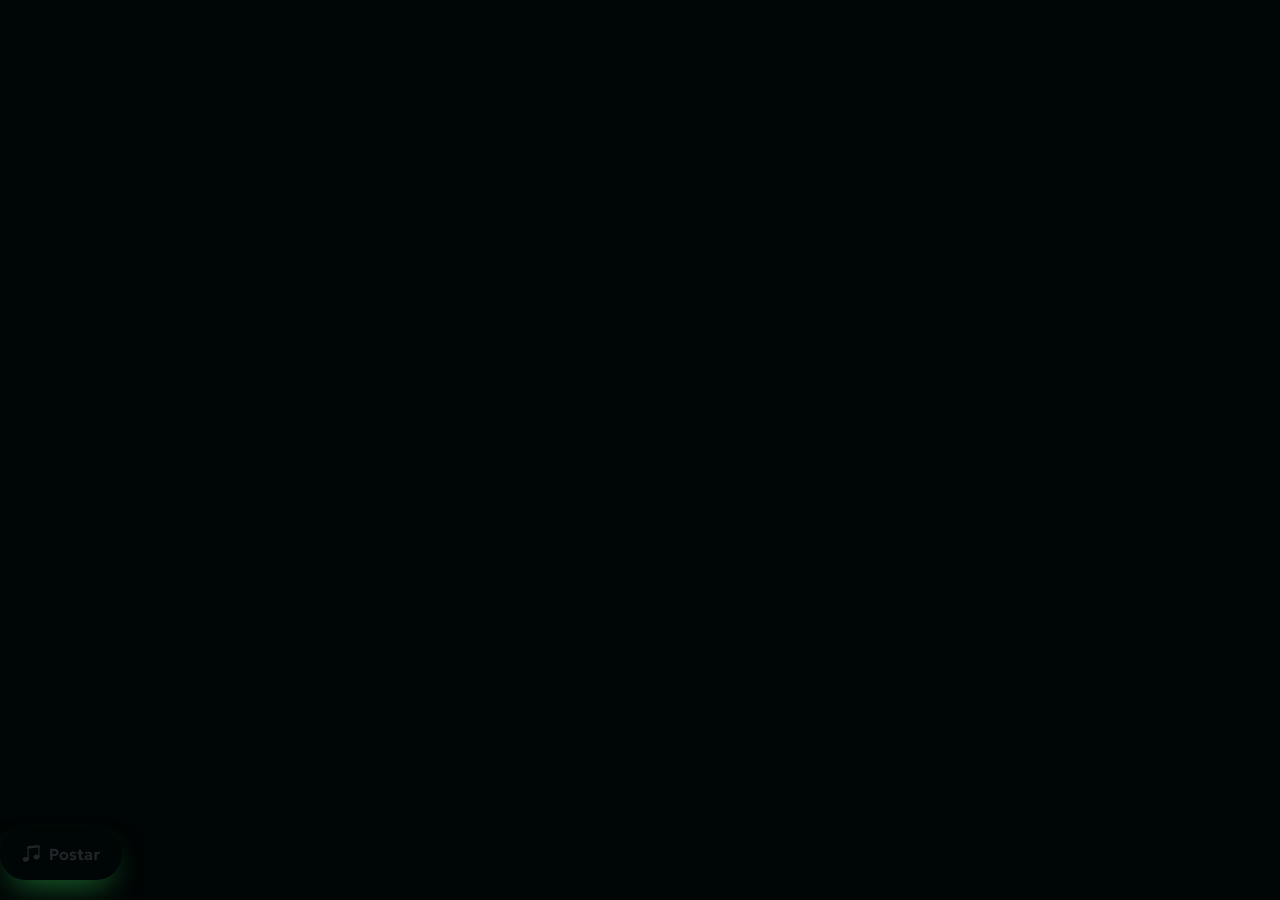
Scenario: CreatePost › busca com debounce e lista as faixas com artista e duração
The width and height of the screenshot is (1280, 900).
Click the button with aria-label "Criar post" at (61, 854), box [0,828,122,880]
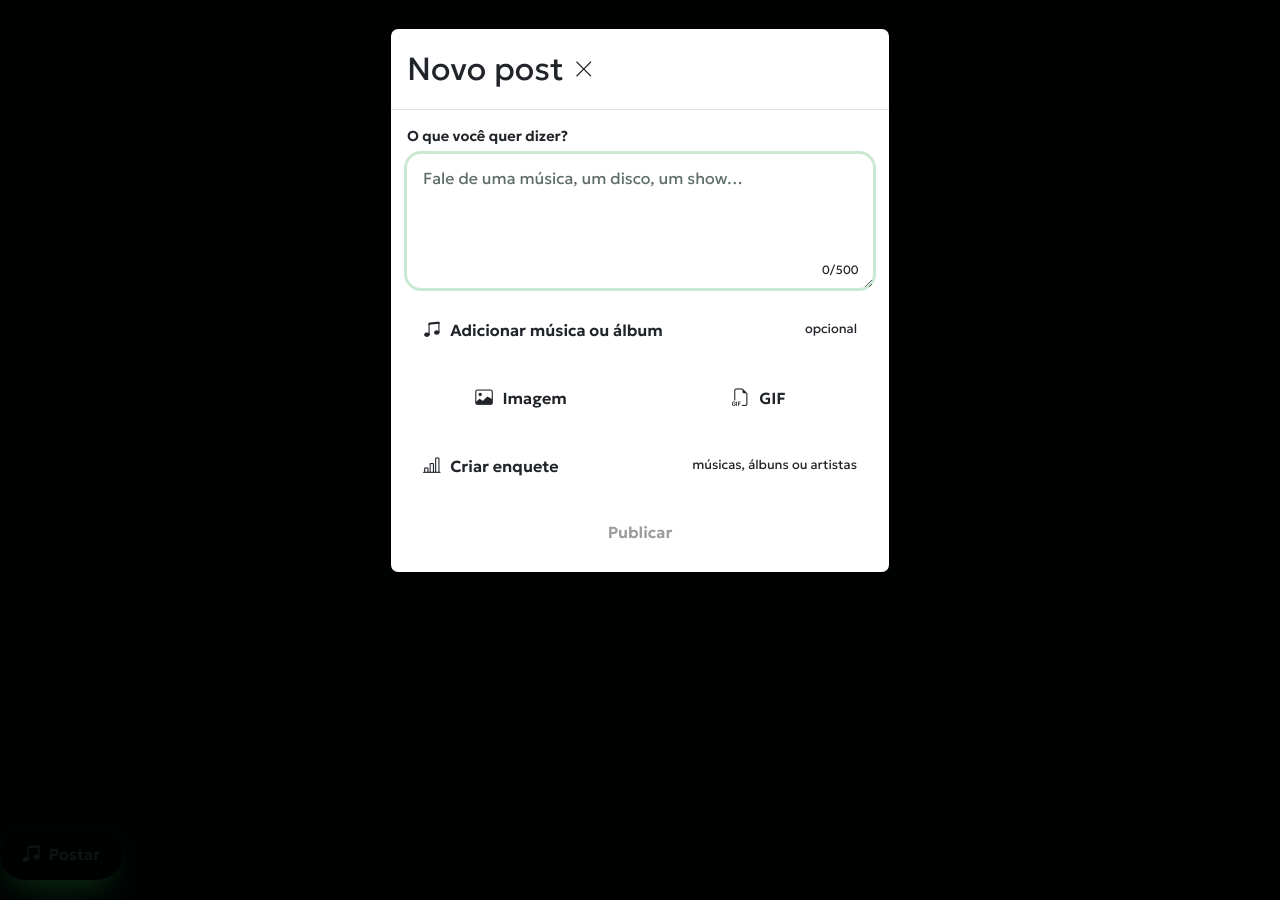
Click the button "Adicionar música ou álbum opcional" at (640, 330), box [407,304,873,356]
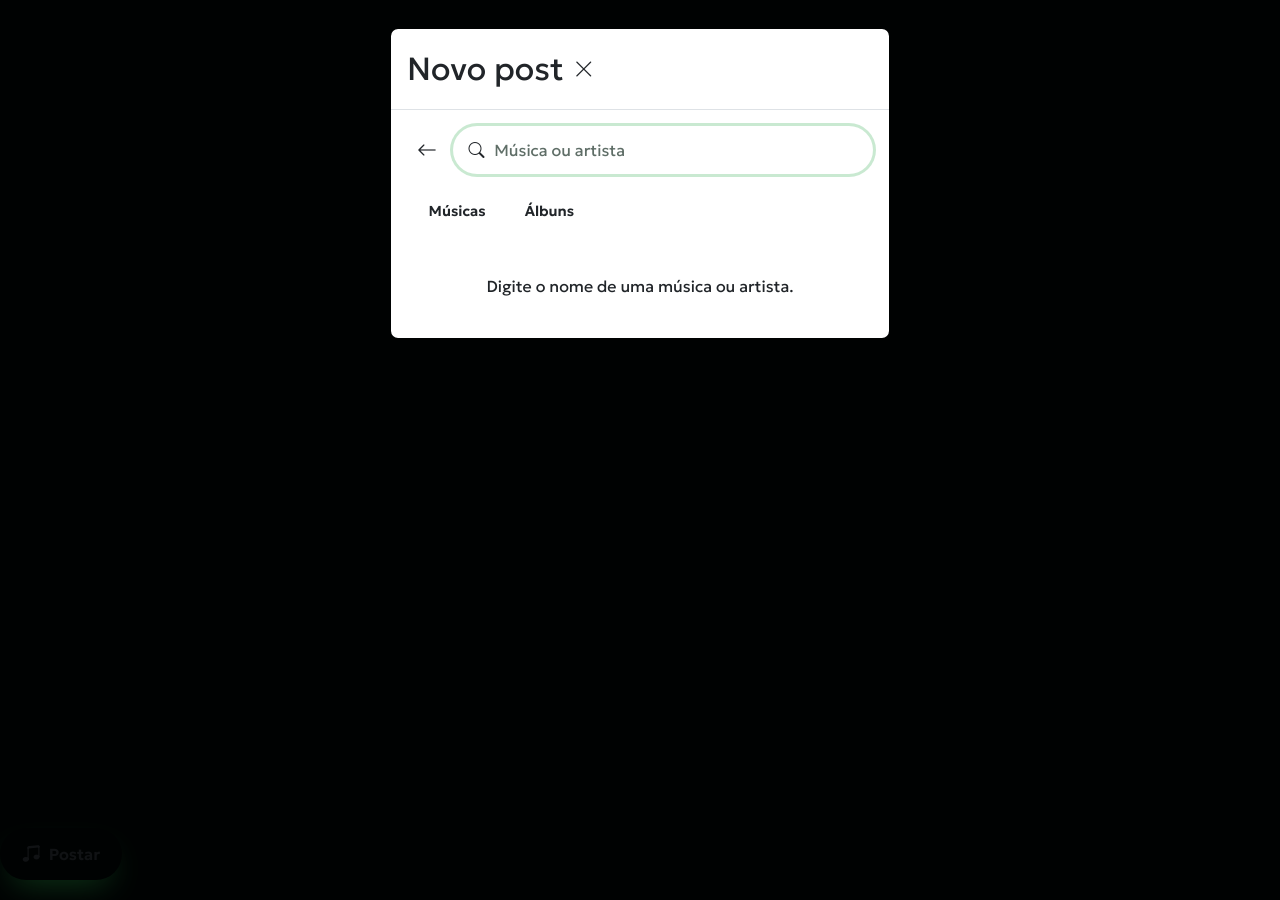
Type "help" into the search field named "Buscar música" at (663, 150), box [453,126,873,174]
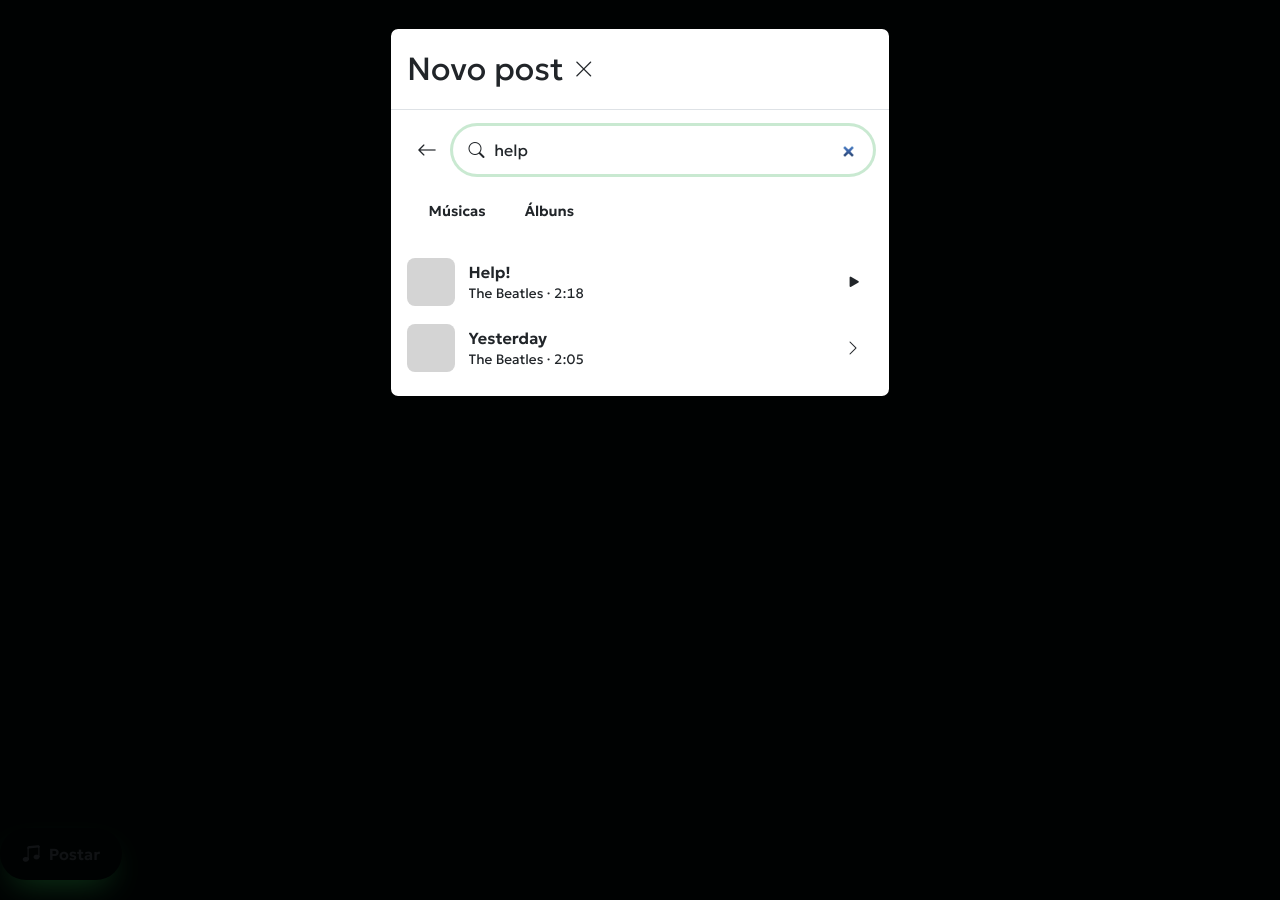
Check: the button named "Tocar prévia de Help!" is shown, box [833,262,873,302]
